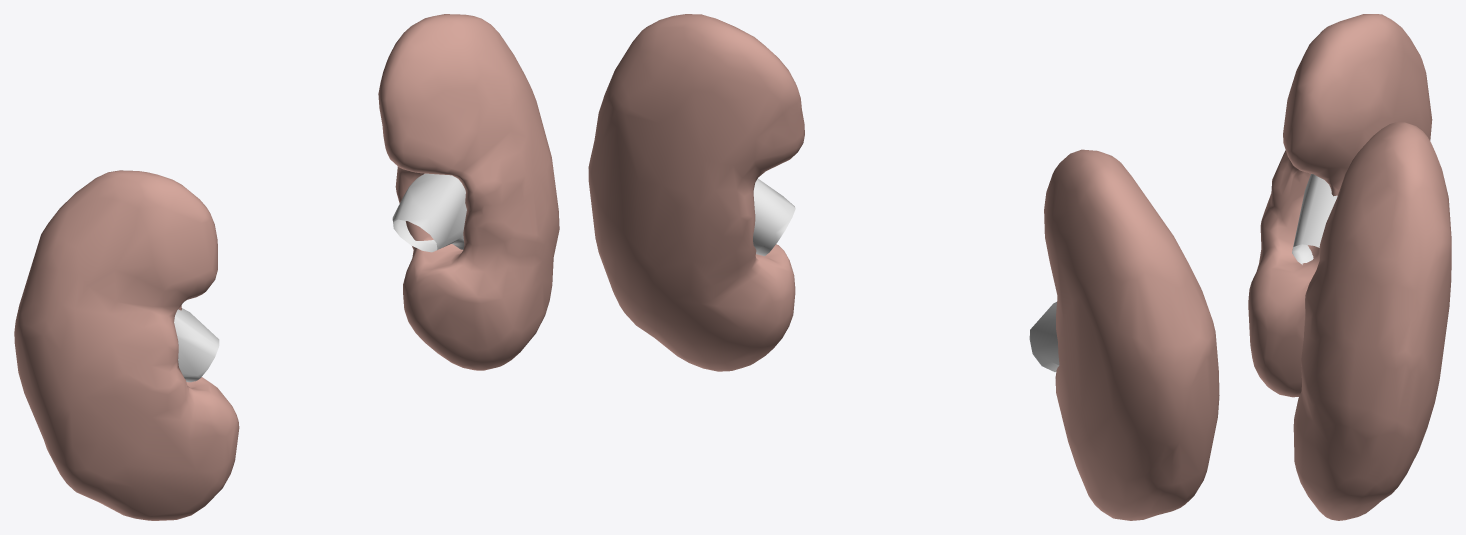
File: visceral.glb
3 views of the same model, side by side, from view 1: azimuth 30°, elevation 25°; view 2: azimuth 150°, elevation 25°; view 3: azimuth 270°, elevation 25° (orthographic). The views are drawn at different scales.
Visible parts, largest first — view 1: Kidney.r, Kidney.l, Renal pelvis.l, Renal pelvis.r; view 2: Kidney.l, Kidney.r, Renal pelvis.l, Renal pelvis.r; view 3: Kidney.l, Kidney.r, Renal pelvis.r.
Boxes of the visible parts, x1,y1,x2,y2 form: Kidney.r: (14,170,239,520); Kidney.l: (378,14,559,370); Renal pelvis.l: (392,173,466,252); Renal pelvis.r: (174,308,219,382); Kidney.l: (588,14,804,371); Kidney.r: (1044,149,1219,520); Renal pelvis.l: (753,178,795,256); Renal pelvis.r: (1029,302,1059,371); Kidney.l: (1293,122,1451,520); Kidney.r: (1248,14,1432,397); Renal pelvis.r: (1292,174,1337,264).
Size of the model in its own units: 0.1781 by 0.1236 by 0.0522.
